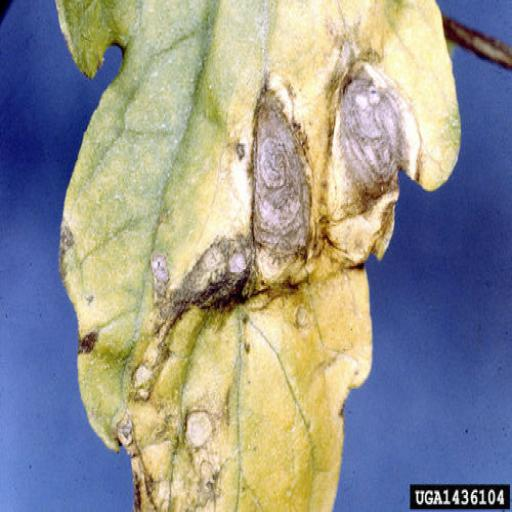disease_tomato: (54, 0, 472, 512)
